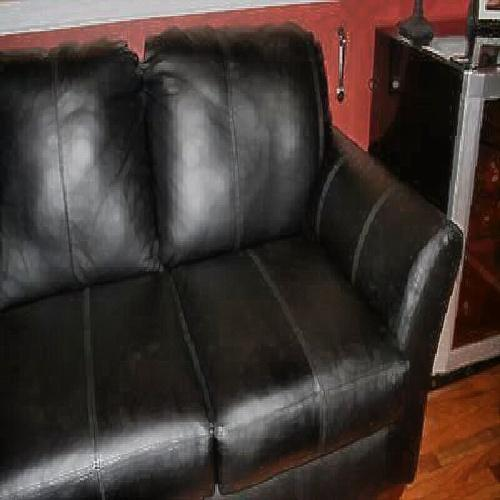sofa: (22, 44, 430, 470)
